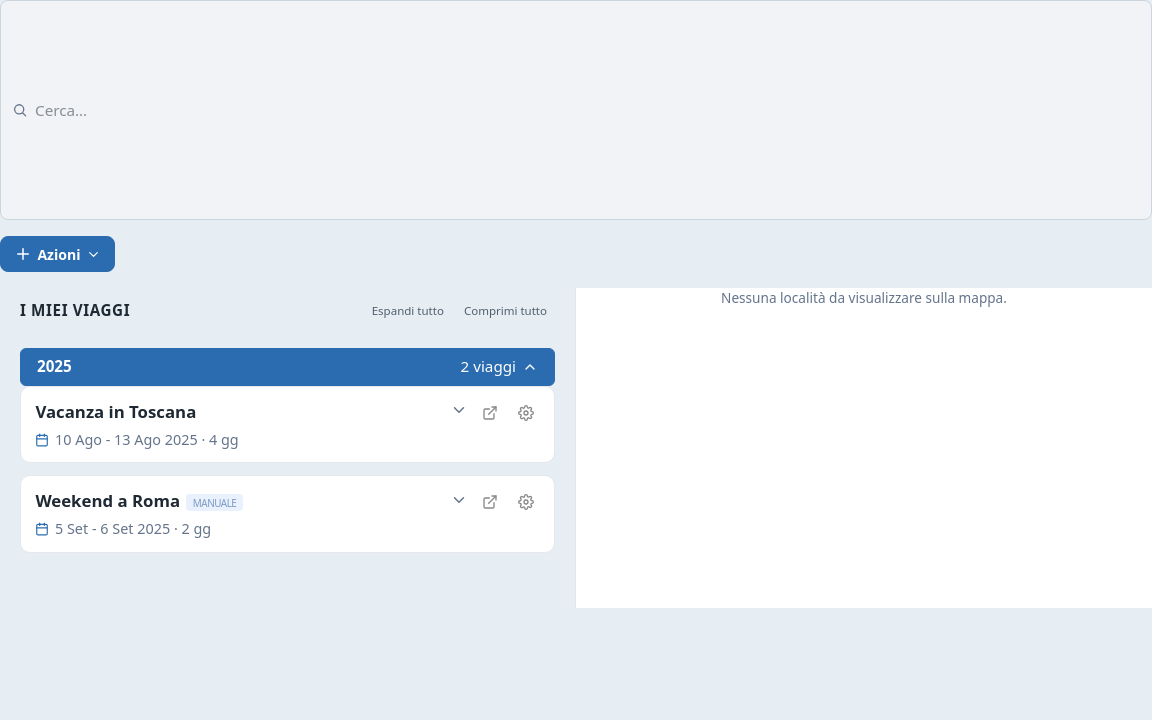
Test: TripsPage › offers the explicit recalculation command in the global action menu (§1.1)
This screenshot has width=1152, height=720.
Expected: the text "Vacanza in Toscana" is shown, [35, 400, 196, 423]
Click the button "Azioni".
click(57, 254)  # box [0, 236, 115, 272]
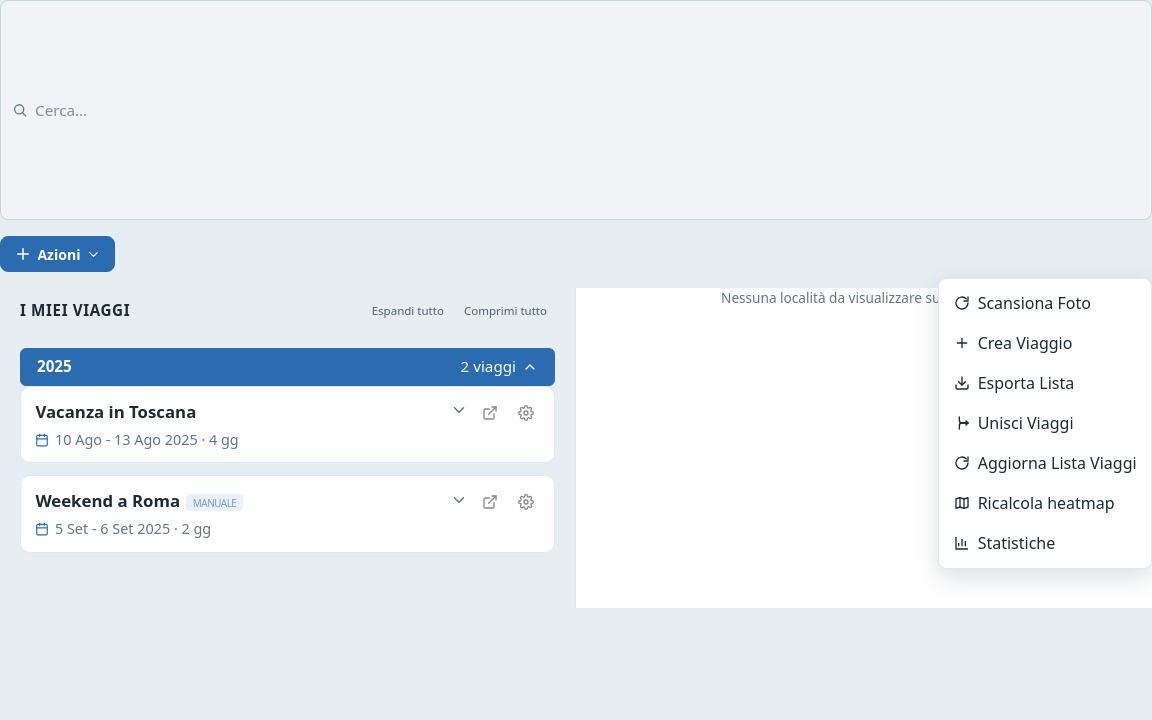
Click the menu item "Aggiorna Lista Viaggi".
click(1045, 463)  # box [944, 443, 1146, 483]
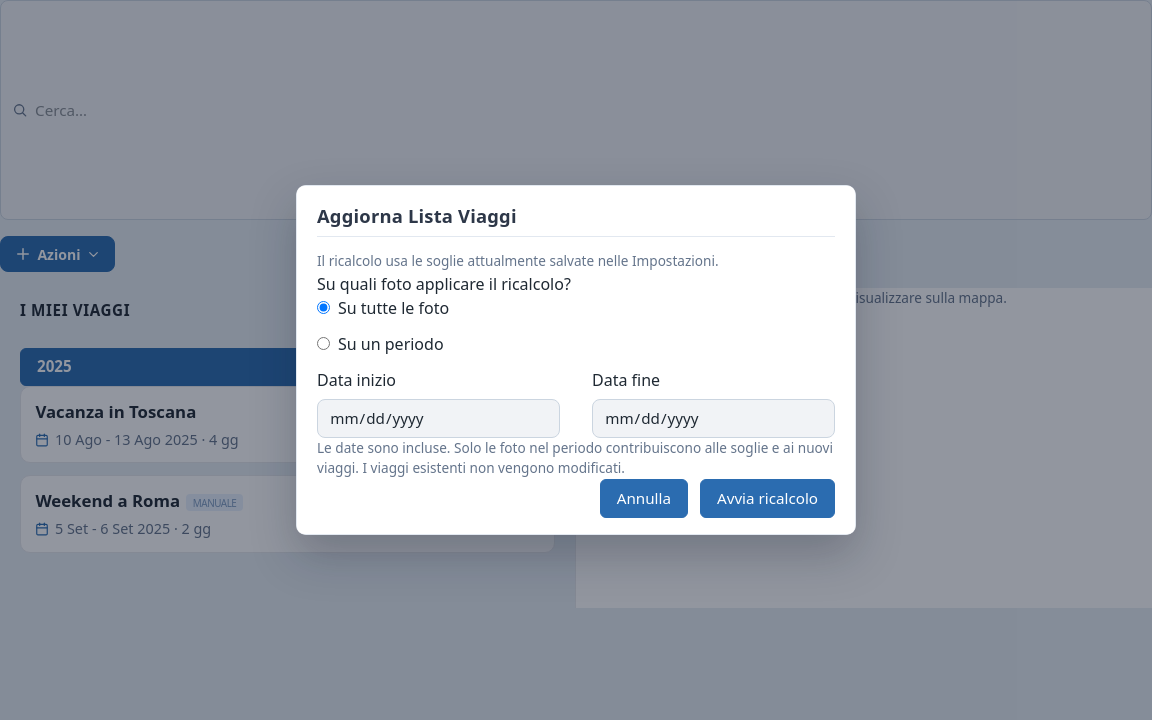
Expected: the dialog "Aggiorna Lista Viaggi" is shown
Click the radio button labelled "Su un periodo".
click(324, 344)  # box [317, 337, 330, 350]
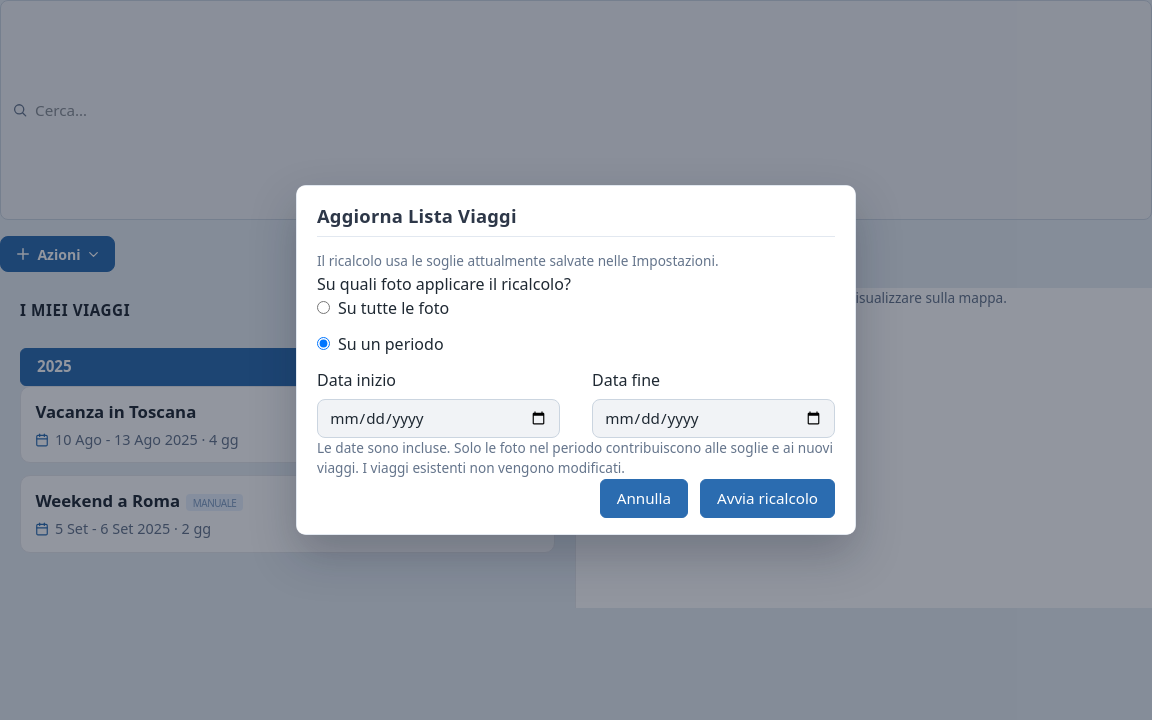
Type "2026-09-12" into the date field labelled "Data inizio".
click(438, 418); type("2026-09-12")  # box [317, 399, 560, 438]
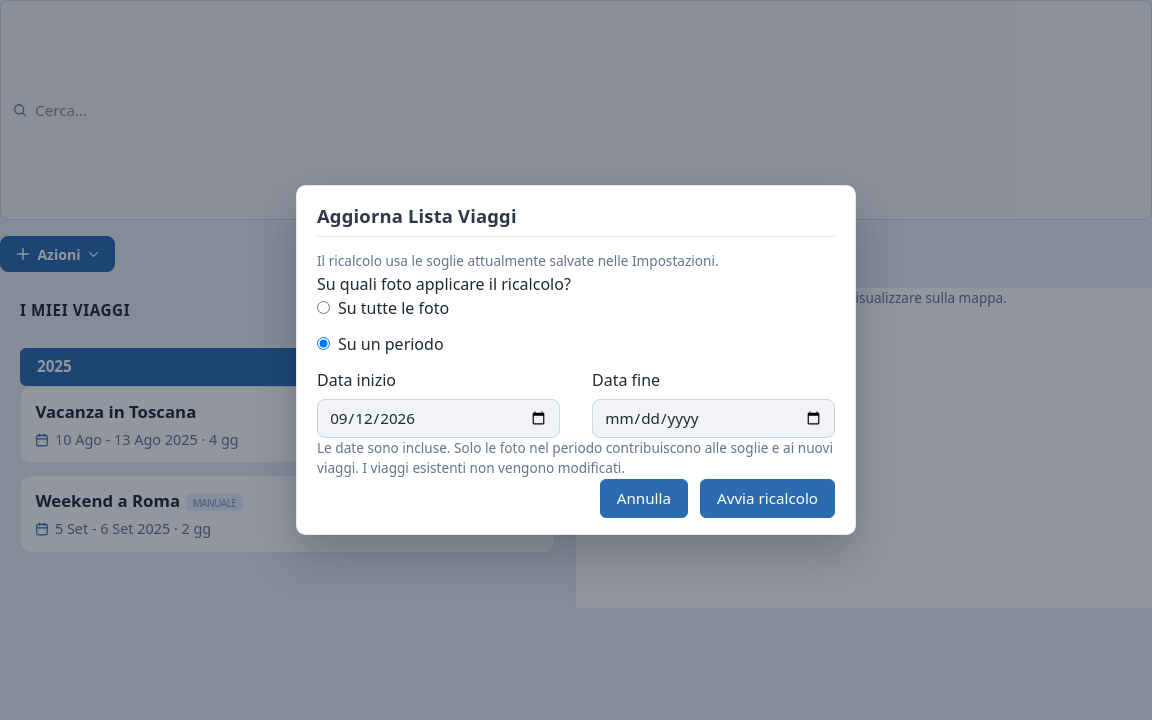
Type "2026-09-13" into the date field labelled "Data fine".
click(714, 418); type("2026-09-13")  # box [592, 399, 835, 438]
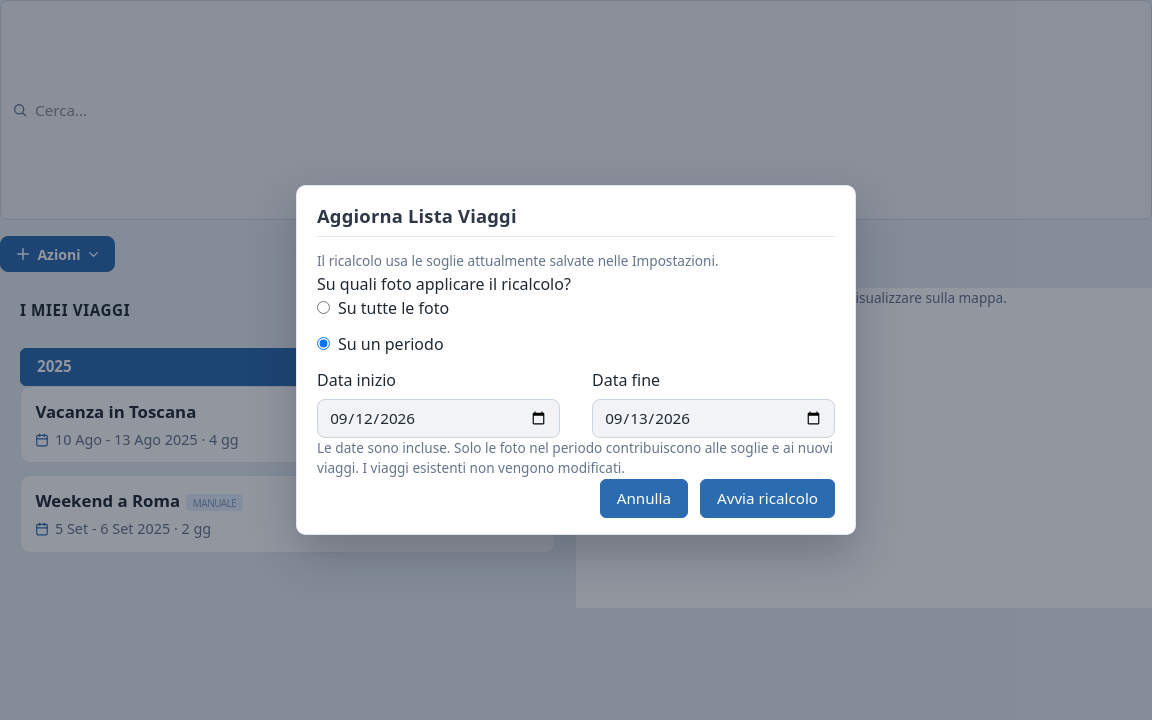
Click the button "Avvia ricalcolo".
click(768, 498)  # box [700, 479, 835, 518]
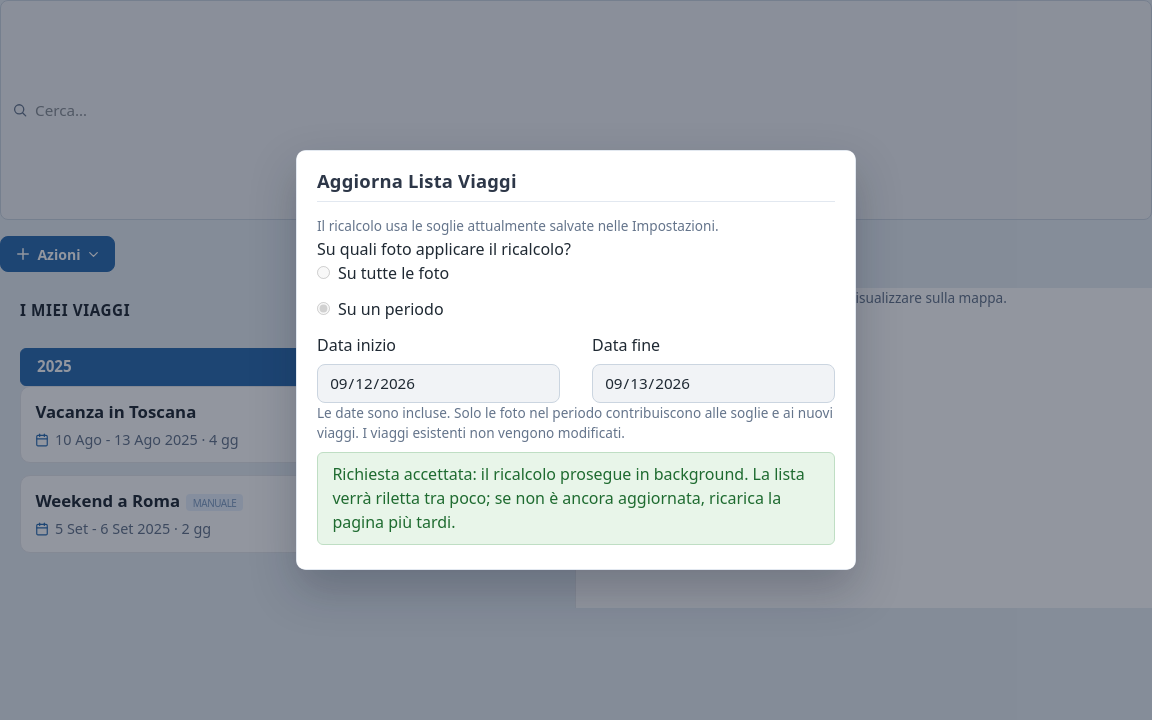
Expected: the text "Richiesta accettata" is shown, [332, 464, 805, 534]
